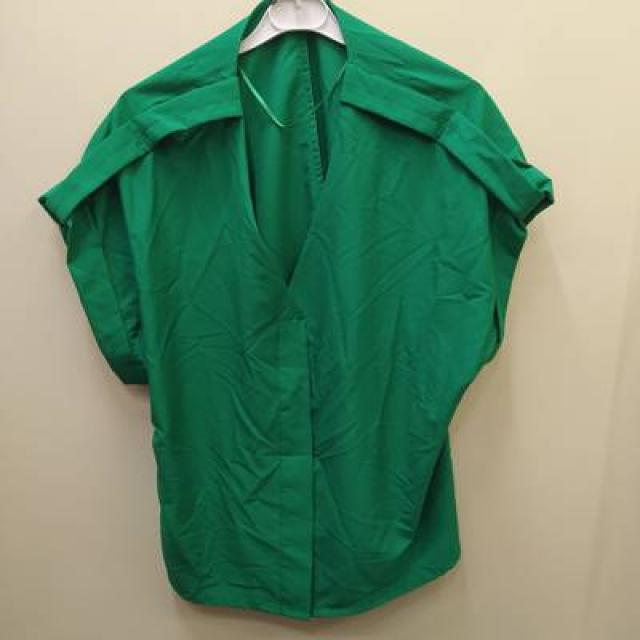Clothes -Biodegradable-: (40, 0, 557, 618)
